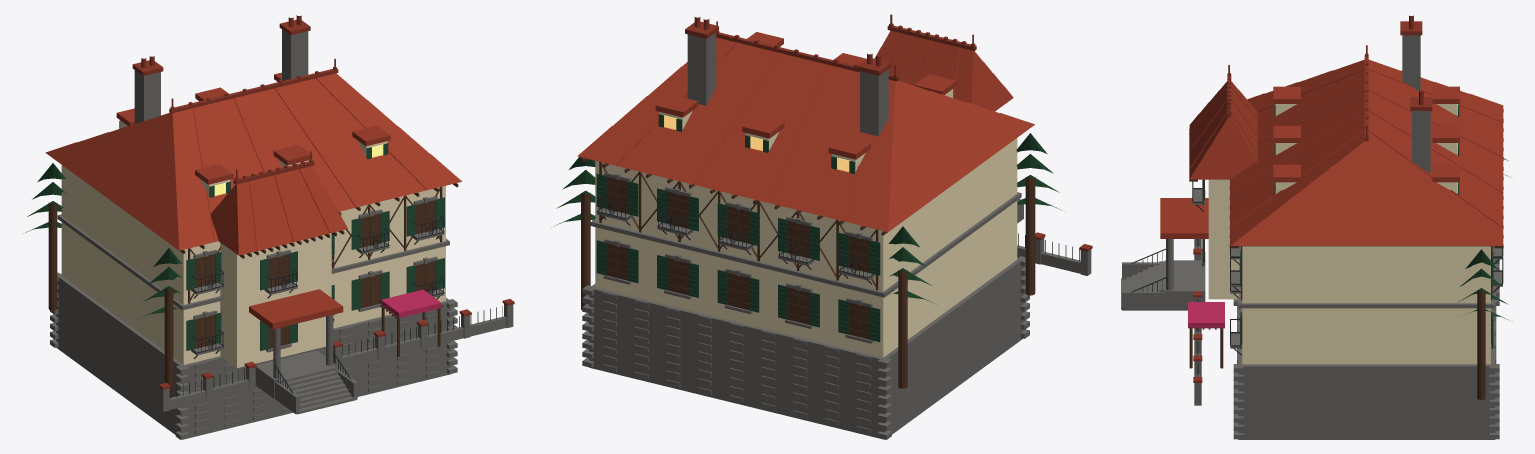
Rendered from fv_thd_06_villa_17_savoy.glb.
The picture shows the model from 3 angles, left to right: view 1: azimuth 30°, elevation 25°; view 2: azimuth 150°, elevation 25°; view 3: azimuth 270°, elevation 25°; orthographic projection. The views are drawn at different scales.
Parts seen in each view (by area): view 1: marseille_corrugated_roof_tiles, granite_foundation_and_stairs, stucco_facade_and_dormers, colombage_timber_and_eaves, pine_green_louvered_shutters, ridge_cresting_and_chimneys, wrought_iron_balconies_3d, pine_trees_and_garden_hedges, bougainvillea_pergola_clusters; view 2: marseille_corrugated_roof_tiles, granite_foundation_and_stairs, stucco_facade_and_dormers, colombage_timber_and_eaves, pine_green_louvered_shutters, ridge_cresting_and_chimneys, pine_trees_and_garden_hedges, wrought_iron_balconies_3d; view 3: marseille_corrugated_roof_tiles, stucco_facade_and_dormers, granite_foundation_and_stairs, colombage_timber_and_eaves, ridge_cresting_and_chimneys, bougainvillea_pergola_clusters, wrought_iron_balconies_3d, pine_trees_and_garden_hedges, pine_green_louvered_shutters.
Boxes of the visible parts, bbox=[...] form: marseille_corrugated_roof_tiles: bbox=[45, 72, 461, 329]; granite_foundation_and_stairs: bbox=[50, 29, 513, 439]; stucco_facade_and_dormers: bbox=[61, 82, 445, 368]; colombage_timber_and_eaves: bbox=[48, 183, 458, 395]; pine_green_louvered_shutters: bbox=[119, 121, 444, 350]; ridge_cresting_and_chimneys: bbox=[132, 15, 514, 389]; wrought_iron_balconies_3d: bbox=[170, 215, 502, 398]; pine_trees_and_garden_hedges: bbox=[23, 163, 181, 317]; bougainvillea_pergola_clusters: bbox=[381, 289, 441, 318]; marseille_corrugated_roof_tiles: bbox=[577, 30, 1034, 231]; granite_foundation_and_stairs: bbox=[582, 32, 1091, 439]; stucco_facade_and_dormers: bbox=[595, 46, 1017, 357]; colombage_timber_and_eaves: bbox=[581, 158, 1035, 388]; pine_green_louvered_shutters: bbox=[596, 89, 953, 342]; ridge_cresting_and_chimneys: bbox=[685, 14, 1092, 251]; pine_trees_and_garden_hedges: bbox=[551, 133, 1061, 304]; wrought_iron_balconies_3d: bbox=[596, 193, 1079, 284]; marseille_corrugated_roof_tiles: bbox=[1160, 59, 1503, 245]; stucco_facade_and_dormers: bbox=[1208, 104, 1490, 364]; granite_foundation_and_stairs: bbox=[1121, 35, 1502, 439]; colombage_timber_and_eaves: bbox=[1189, 109, 1503, 399]; ridge_cresting_and_chimneys: bbox=[1193, 15, 1432, 382]; bougainvillea_pergola_clusters: bbox=[1188, 302, 1224, 328]; wrought_iron_balconies_3d: bbox=[1131, 181, 1503, 376]; pine_trees_and_garden_hedges: bbox=[1457, 158, 1512, 321]; pine_green_louvered_shutters: bbox=[1202, 104, 1493, 348].
Size of the model in its own units: 24.42 by 20.23 by 23.33.
